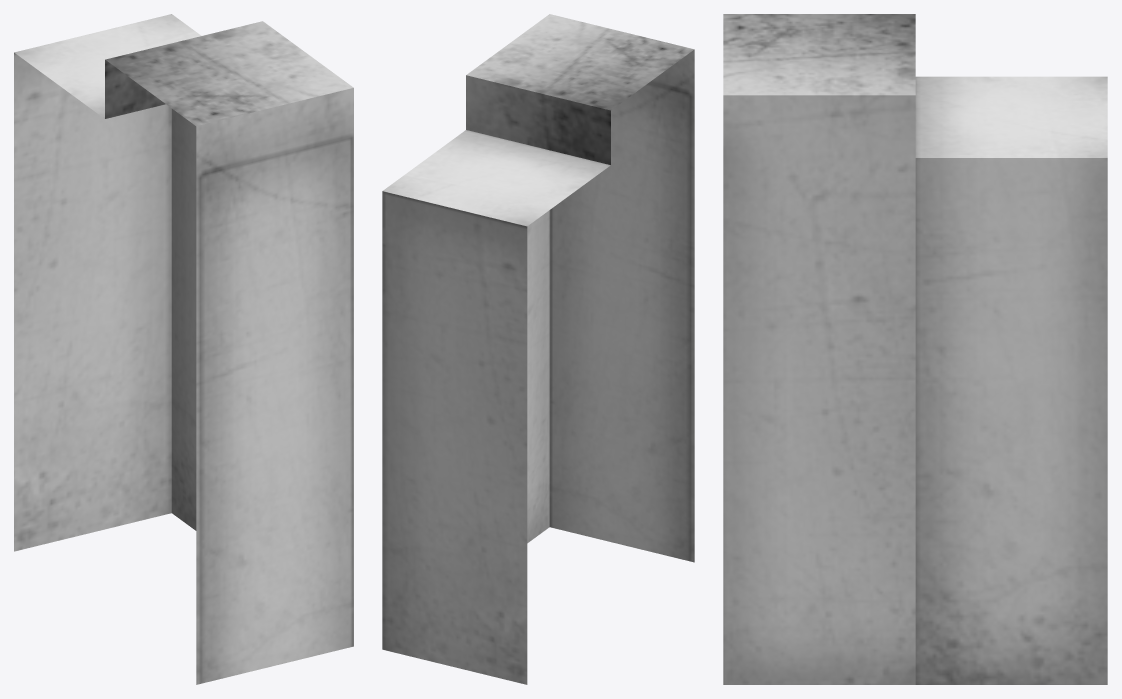
The model's file is Tapa.obj.
3 views of the same model, side by side, from view 1: azimuth 30°, elevation 25°; view 2: azimuth 150°, elevation 25°; view 3: azimuth 270°, elevation 25° (orthographic). The views are drawn at different scales.
Parts seen in each view (by area): view 1: Plane.001_Plane.013; view 2: Plane.001_Plane.013; view 3: Plane.001_Plane.013.
Boxes of the visible parts, x1=… form: Plane.001_Plane.013: x1=14, y1=14, x2=353, y2=684; Plane.001_Plane.013: x1=382, y1=14, x2=694, y2=684; Plane.001_Plane.013: x1=723, y1=14, x2=1107, y2=684.
Size of the model in its own units: 0.992 by 3.36 by 1.98.
